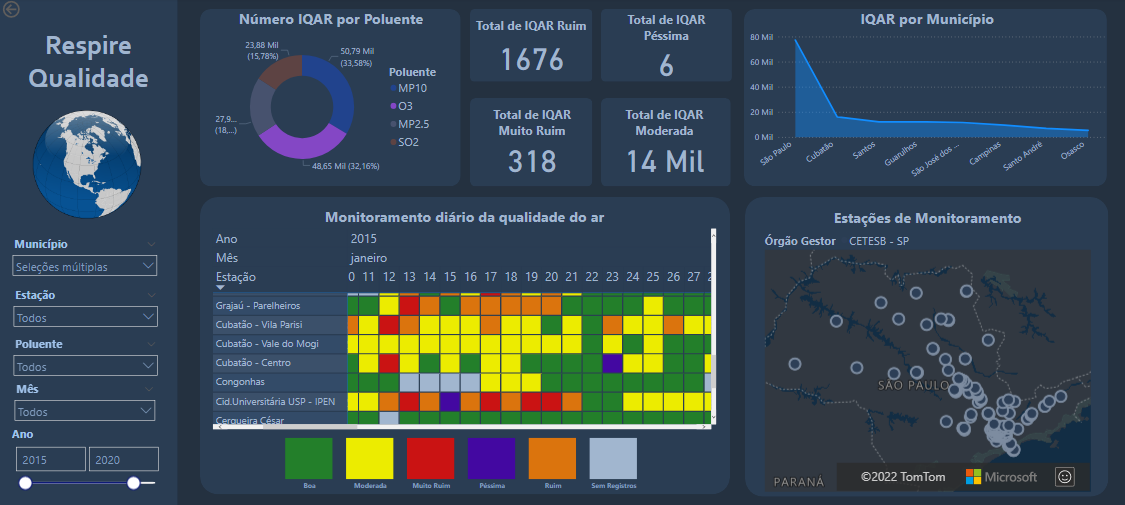

Layout of this report page (visuals, bound fields, positions):
{"tool":"powerbi","page":{"name":"Página 1","canvas":[2000,900],"ordinal":0},"visuals":[{"type":"shape","box":[832.3,19.4,217.2,129],"z":0},{"type":"shape","box":[1318.3,19.4,643,314],"z":1000},{"type":"shape","box":[354.8,19.4,462.4,314],"z":2000},{"type":"shape","box":[1319.1,352.5,643.8,530.6],"z":3000},{"type":"shape","box":[354.4,352.5,938.8,526.9],"z":4000},{"type":"shape","box":[0,0,315,1000],"z":5000},{"type":"slicer","title":"Ano","fields":{"Values":["Avaliação diária da qualidade do ar_data.Ano de Data"]},"box":[16.5,757.9,279.6,129],"z":6000},{"type":"slicer","fields":{"Values":["Avaliação diária da qualidade do ar_data.Município "]},"box":[13,415.6,276.4,90.9],"z":7000},{"type":"pivotTable","title":"Monitoramento diário da qualidade do ar","fields":{"Rows":["Avaliação diária da qualidade do ar_data.Município ","Avaliação diária da qualidade do ar_data.Estação "],"Columns":["Avaliação diária da qualidade do ar_data.Data.Variation.Hierarquia de datas.Ano","Avaliação diária da qualidade do ar_data.Data.Variation.Hierarquia de datas.Mês","Avaliação diária da qualidade do ar_data.Data.Variation.Hierarquia de datas.Dia"],"Values":["Max(Avaliação diária da qualidade do ar_data.Abv_IQAR)"]},"box":[372.9,371.1,901.7,398.9],"z":8000},{"type":"actionButton","box":[0,0,100,40],"z":9000},{"type":"slicer","fields":{"Values":["Avaliação diária da qualidade do ar_data.Mês de Data"]},"box":[16,673.4,269,85.3],"z":10000},{"type":"clusteredColumnChart","fields":{"Y":["_Medidas.Label_Monitoramento"],"Category":["Legendas (3).Indices"]},"box":[456.4,766.2,721.7,116.9],"z":11000},{"type":"slicer","fields":{"Values":["Avaliação diária da qualidade do ar_data.Poluente"]},"box":[14.8,593.7,274.6,79.8],"z":12000},{"type":"slicer","fields":{"Values":["Avaliação diária da qualidade do ar_data.Estação "]},"box":[13.3,507.4,275.3,86],"z":13000},{"type":"image","box":[53.8,148.4,202.2,291.3],"z":14000},{"type":"textbox","box":[0,48.2,313.5,159.6],"z":15000},{"type":"azureMap","title":"Estações de Monitoramento","fields":{"Y":["Mapa de estações de monitoramento_data.Latitude"],"X":["Mapa de estações de monitoramento_data.Longitude"],"Series":["Mapa de estações de monitoramento_data.Órgão Gestor1"]},"box":[1350.5,372,587.1,507.5],"z":16000},{"type":"donutChart","title":"Número IQAR por Poluente","fields":{"Category":["Avaliação diária da qualidade do ar_data.Poluente"],"Y":["CountNonNull(Avaliação diária da qualidade do ar_data.IQAR)"]},"box":[376.3,19.4,421.5,314],"z":17000},{"type":"stackedAreaChart","title":"IQAR por Município ","fields":{"Category":["Avaliação diária da qualidade do ar_data.Município "],"Y":["CountNonNull(Avaliação diária da qualidade do ar_data.IQAR)"]},"box":[1322.6,19.4,638.7,314],"z":18000},{"type":"shape","box":[832.3,176.3,217.2,157],"z":19000},{"type":"card","title":"Total de IQAR Muito Ruim","fields":{"Values":["_Medidas.TotalPessima"]},"box":[840.9,191.4,202.2,126.9],"z":20000},{"type":"card","title":"Total de IQAR Ruim","fields":{"Values":["_Medidas.TotalRuim"]},"box":[832.3,34.4,217.2,107.5],"z":21000},{"type":"shape","box":[1064.5,19.4,232.3,129],"z":22000},{"type":"shape","box":[1064.5,176.3,230.1,157],"z":23000},{"type":"card","title":"Total de IQAR Péssima","fields":{"Values":["_Medidas.TotalPessima"]},"box":[1071,23.7,217.2,122.6],"z":24000},{"type":"card","title":"Total de IQAR Moderada","fields":{"Values":["_Medidas.TotalModerada"]},"box":[1068.8,191.4,217.2,126.9],"z":25000}]}

Visuals, with their boxes in screenshot pixels (x1, y1, x2, y2), scaled from the page's 2000x900 canvas onto the 1125x505 screenshot:
shape: crop(468, 11, 590, 83)
shape: crop(742, 11, 1103, 187)
shape: crop(200, 11, 460, 187)
shape: crop(742, 198, 1104, 496)
shape: crop(199, 198, 727, 493)
shape: crop(0, 0, 177, 504)
"Ano" slicer: crop(9, 425, 167, 498)
slicer - Avaliação diária da qualidade do ar_data.Município : crop(7, 233, 163, 284)
"Monitoramento diário da qualidade do ar" pivotTable: crop(210, 208, 717, 432)
actionButton: crop(0, 0, 56, 22)
slicer - Avaliação diária da qualidade do ar_data.Mês de Data: crop(9, 378, 160, 426)
clusteredColumnChart - _Medidas.Label_Monitoramento x Legendas (3).Indices: crop(257, 430, 663, 496)
slicer - Avaliação diária da qualidade do ar_data.Poluente: crop(8, 333, 163, 378)
slicer - Avaliação diária da qualidade do ar_data.Estação : crop(7, 285, 162, 333)
image: crop(30, 83, 144, 247)
textbox: crop(0, 27, 176, 117)
"Estações de Monitoramento" azureMap: crop(760, 209, 1090, 493)
"Número IQAR por Poluente" donutChart: crop(212, 11, 449, 187)
"IQAR por Município " stackedAreaChart: crop(744, 11, 1103, 187)
shape: crop(468, 99, 590, 187)
"Total de IQAR Muito Ruim" card: crop(473, 107, 587, 179)
"Total de IQAR Ruim" card: crop(468, 19, 590, 80)
shape: crop(599, 11, 729, 83)
shape: crop(599, 99, 728, 187)
"Total de IQAR Péssima" card: crop(602, 13, 725, 82)
"Total de IQAR Moderada" card: crop(601, 107, 723, 179)
